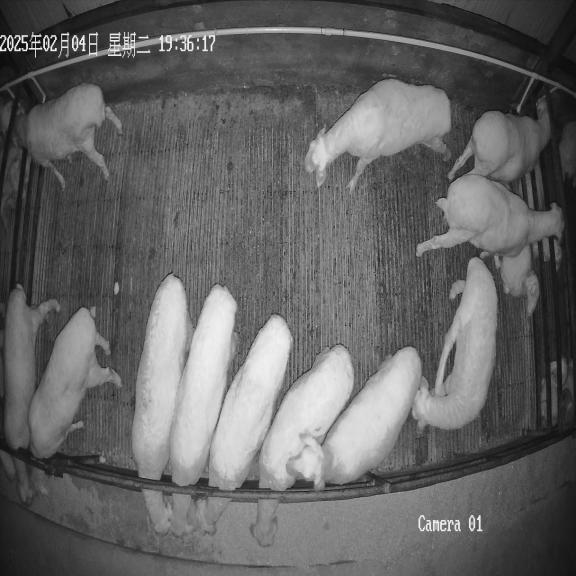drinking: (448, 96, 552, 183)
eating: (196, 314, 292, 534), (250, 344, 354, 546), (27, 307, 121, 494), (170, 284, 237, 536), (132, 272, 194, 535), (2, 284, 60, 502)
lying: (495, 246, 539, 316)
stand: (287, 347, 421, 490), (304, 79, 451, 192), (412, 257, 497, 430), (0, 83, 122, 187), (417, 174, 563, 258)
